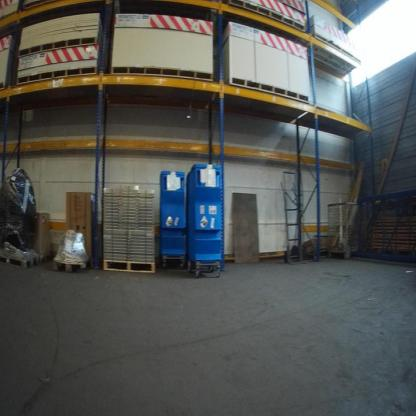pallet: (0, 248, 39, 270), (102, 259, 157, 274), (52, 256, 93, 274), (40, 251, 52, 264)
stillage: (327, 200, 360, 260)
